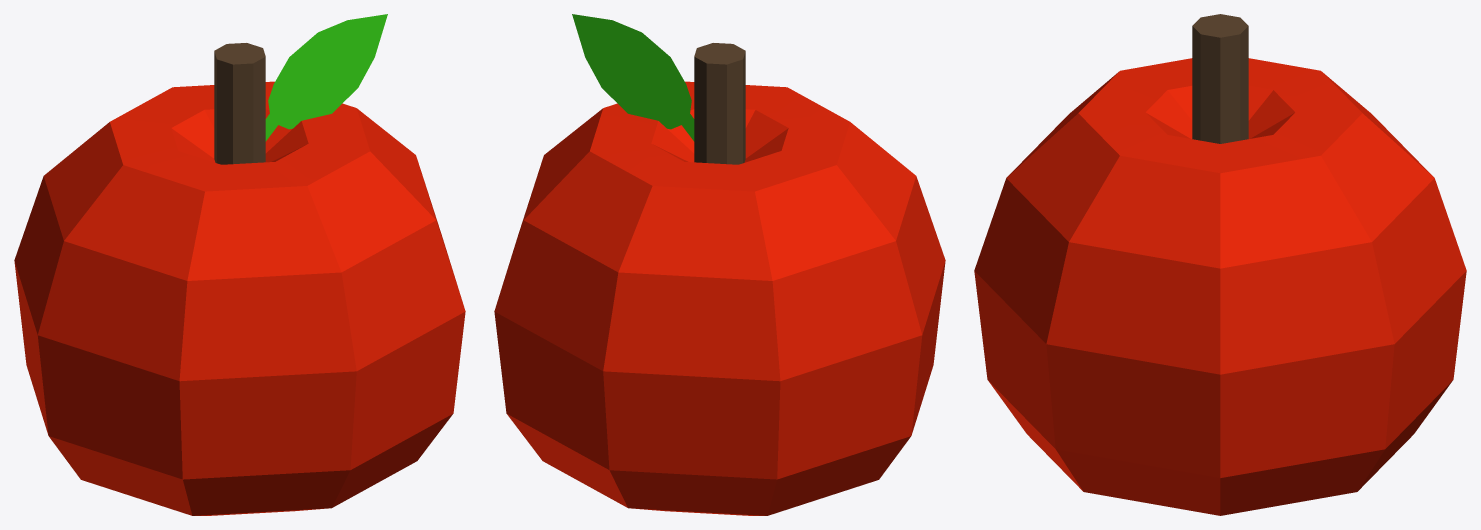
Rendered from apple.fbx.
3 renders of one model, left to right at view 1: azimuth 30°, elevation 25°; view 2: azimuth 150°, elevation 25°; view 3: azimuth 270°, elevation 25°, orthographic. The views are drawn at different scales.
Visible parts, largest first — view 1: apple, Vert.002, Stem; view 2: apple, Vert.002, Stem; view 3: apple, Stem.
Part boxes in pixels (x1,y1,x2,y2): apple: (14,81,465,515); Vert.002: (265,14,387,141); Stem: (214,43,265,164); apple: (494,81,945,515); Vert.002: (572,14,694,141); Stem: (694,43,745,164); apple: (974,58,1466,515); Stem: (1192,14,1248,143).
Bounding box in the file's own units: 10.69 × 10.73 × 10.69.
